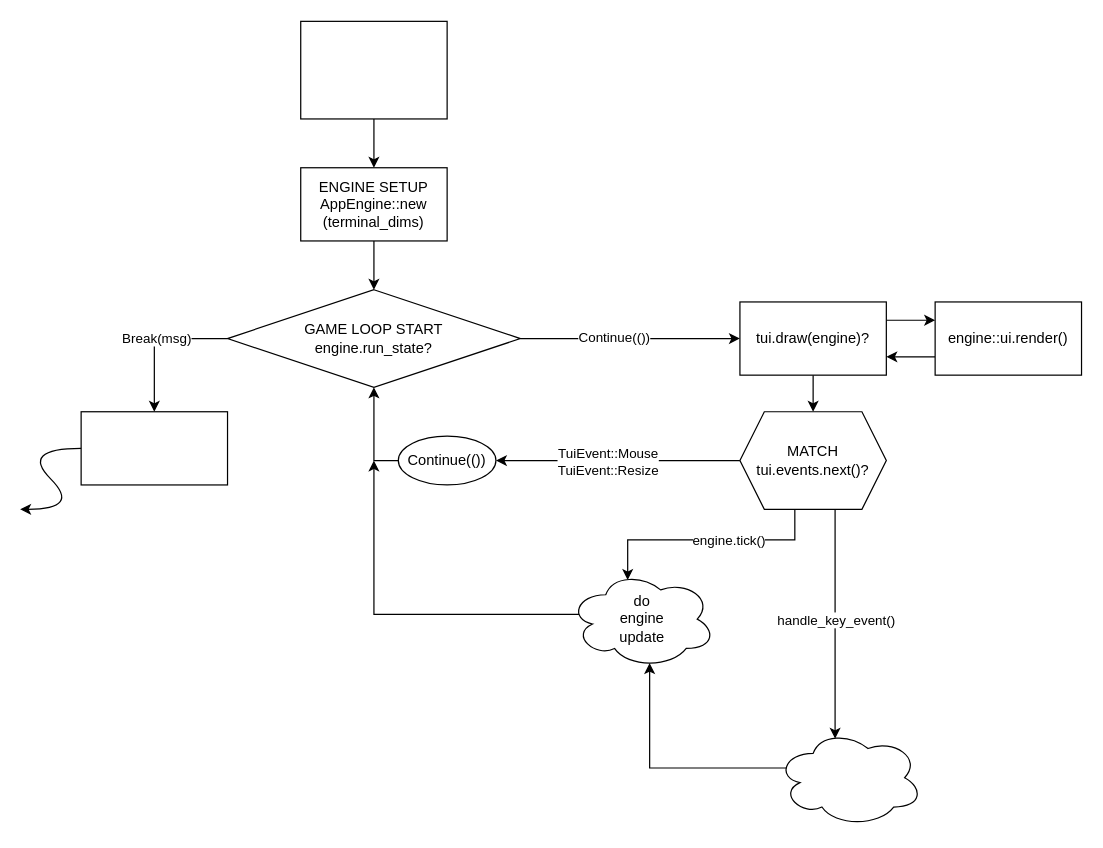
The diagram is 1103 pixels wide and 848 high, and some of its shapes have lost their labels. Here are the shapes that lost their labels. From the top down, the box of each, then its label:
(300, 20, 447, 119): MAIN SETUP backend -> terminal -> events -> tui
(80, 411, 228, 485): PROGRAM EXIT
(775, 728, 923, 827): handle event
